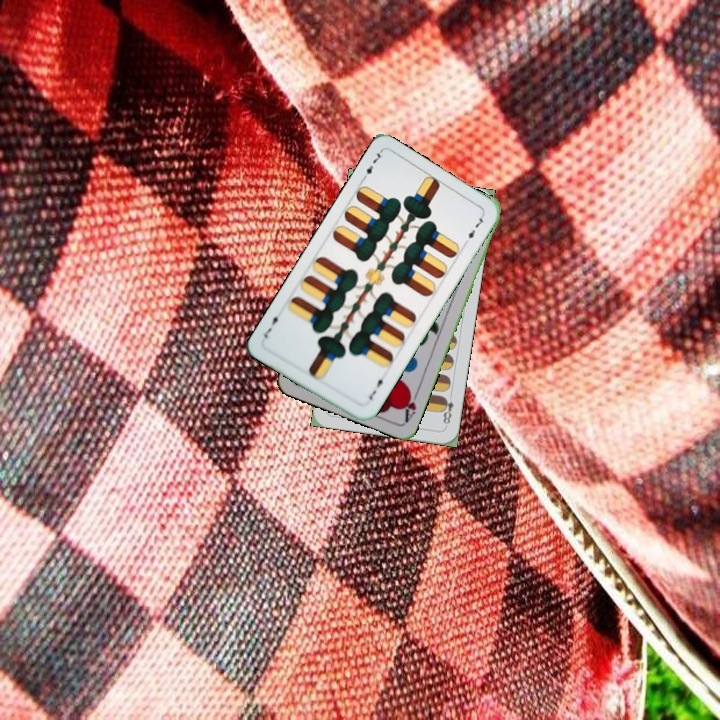E7: (357, 148, 386, 184), (365, 372, 388, 403)
E8: (438, 393, 456, 429)
HA: (399, 385, 422, 425)
